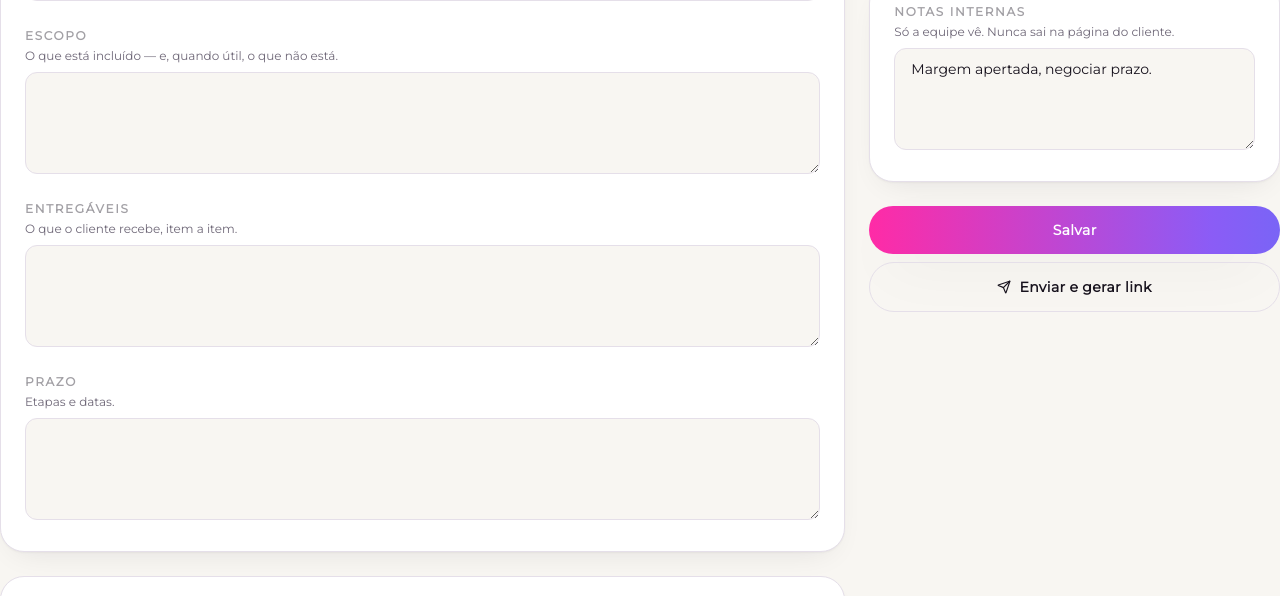
Test case: editor de proposta › envia e mostra o link público para copiar
The image size is (1280, 596).
(page scrolled)
Click the button "Enviar e gerar link": (1075, 287) [869,262,1279,312]
(page scrolled)
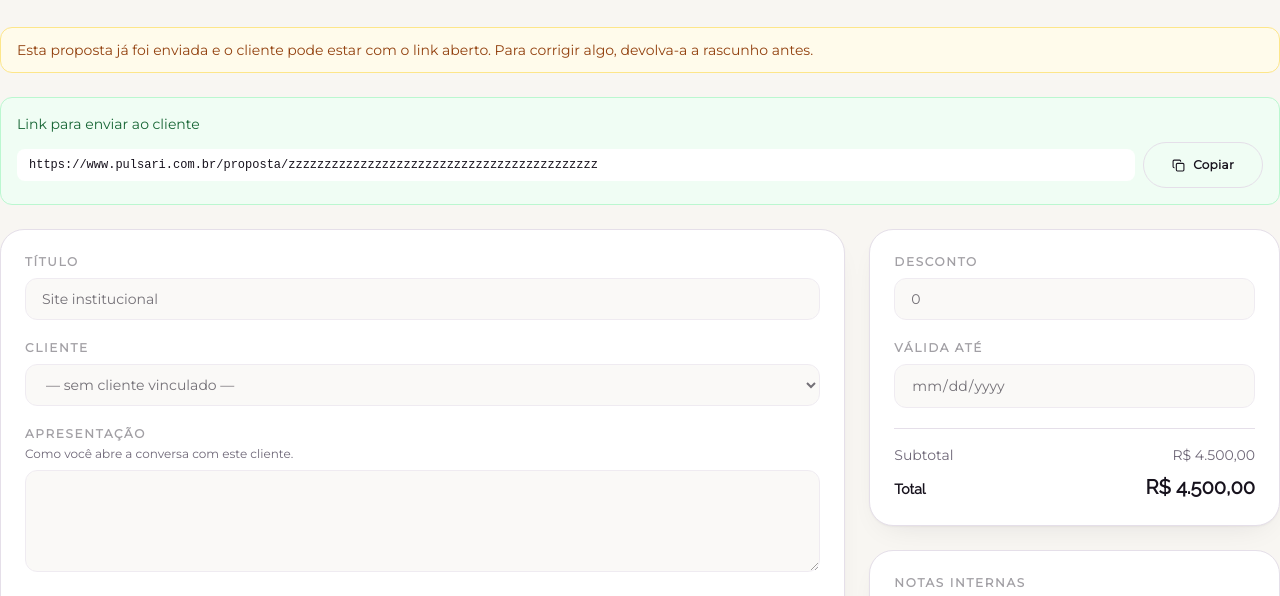
Check: the text "Link para enviar ao cliente" is shown, box [17,115,200,133]
